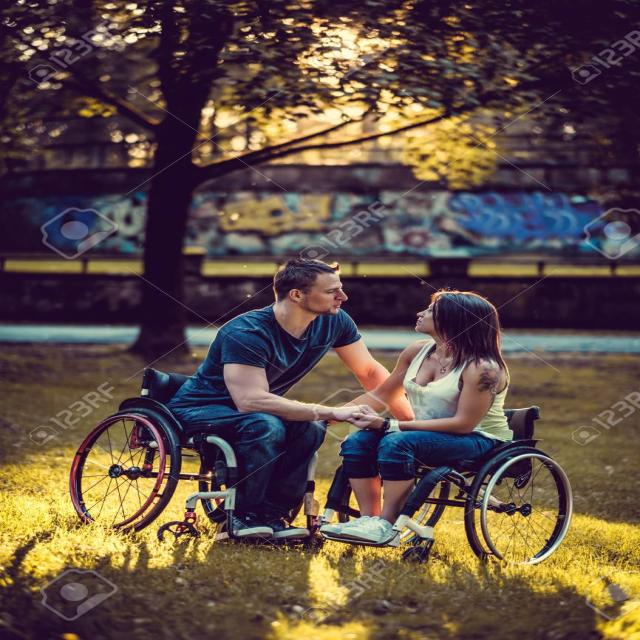wheelchairs: (64, 366, 328, 558), (315, 389, 587, 566)
